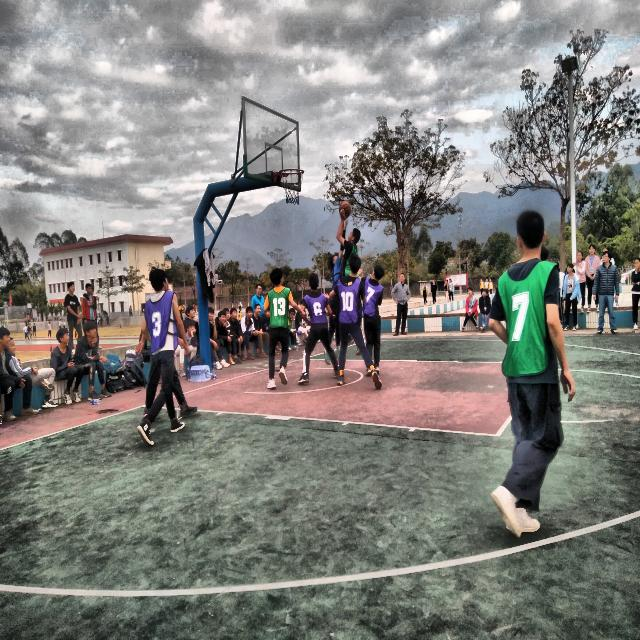board: (338, 199, 352, 218)
rim: (279, 168, 304, 205)
